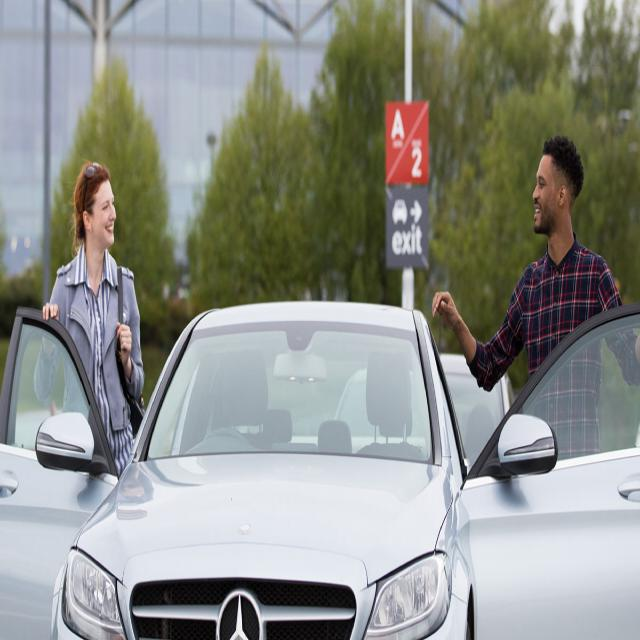car: (70, 308, 469, 640)
person: (430, 136, 616, 347), (43, 158, 151, 328)
